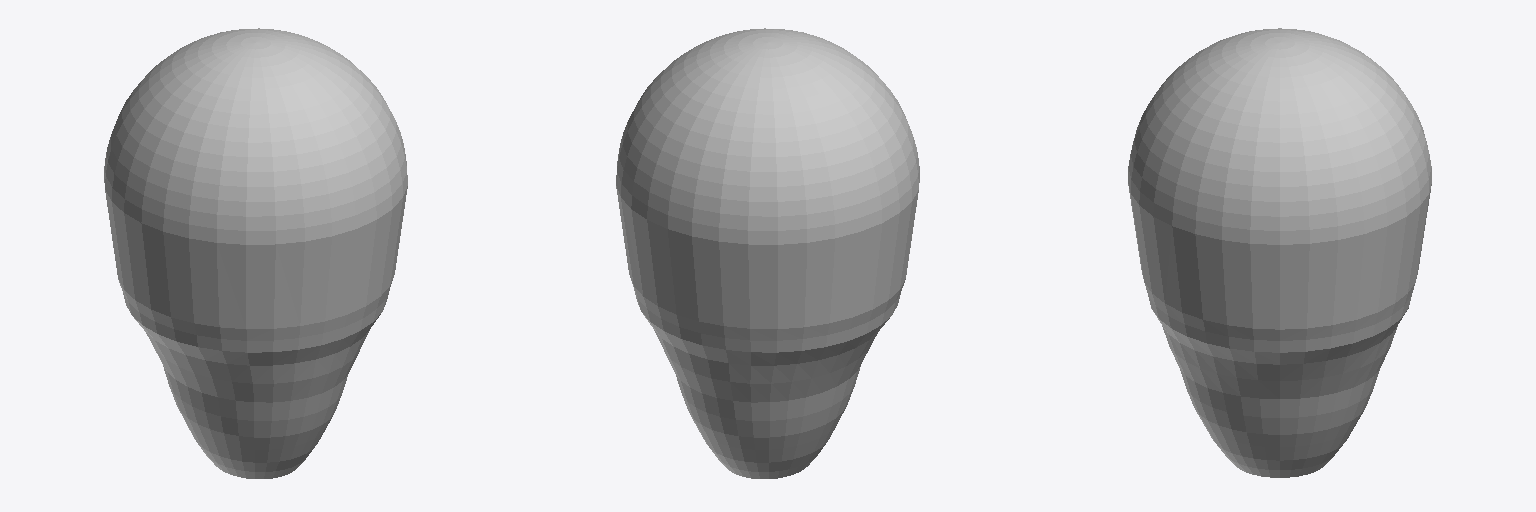
File: boje_3.obj
3 renders of one model, left to right at view 1: azimuth 30°, elevation 25°; view 2: azimuth 150°, elevation 25°; view 3: azimuth 270°, elevation 25°, orthographic.
Size of the model in its own units: 1 by 1.55 by 1.